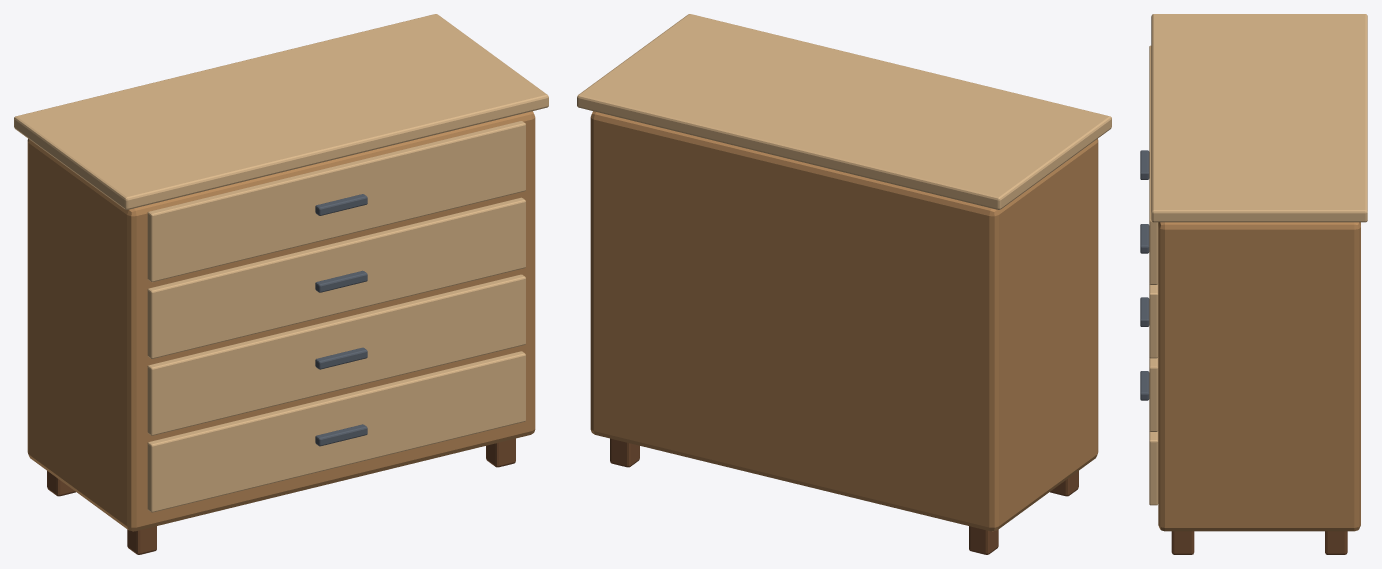
File: dresser.glb
3 renders of one model, left to right at view 1: azimuth 30°, elevation 25°; view 2: azimuth 150°, elevation 25°; view 3: azimuth 270°, elevation 25°, orthographic. The views are drawn at different scales.
Parts seen in each view (by area): view 1: Dresser_Body, Dresser_Top, Dresser_Drawer.002, Dresser_Drawer, Dresser_Drawer.001, Dresser_Drawer.003, Dresser_Foot, Dresser_Foot.002; view 2: Dresser_Body, Dresser_Top, Dresser_Foot.001, Dresser_Foot.003; view 3: Dresser_Body, Dresser_Top, Dresser_Drawer.003, Dresser_Drawer, Dresser_Drawer.002, Dresser_Drawer.001, Dresser_Foot.002, Dresser_Foot.003, Dresser_Handle, Dresser_Handle.001, Dresser_Handle.002, Dresser_Handle.003.
Part boxes in pixels (x1,y1,x2,y2): Dresser_Body: (27,111,535,531); Dresser_Top: (14,14,548,209); Dresser_Drawer.002: (147,197,525,358); Dresser_Drawer: (147,351,525,512); Dresser_Drawer.001: (147,274,525,435); Dresser_Drawer.003: (147,121,525,282); Dresser_Foot: (127,526,156,554); Dresser_Foot.002: (486,438,515,467); Dresser_Body: (590,111,1098,531); Dresser_Top: (577,14,1111,209); Dresser_Foot.001: (969,526,998,554); Dresser_Foot.003: (610,438,639,467); Dresser_Body: (1158,222,1360,531); Dresser_Top: (1151,14,1367,222); Dresser_Drawer.003: (1149,45,1158,284); Dresser_Drawer: (1149,431,1158,505); Dresser_Drawer.002: (1149,283,1158,358); Dresser_Drawer.001: (1149,357,1158,431); Dresser_Foot.002: (1171,531,1194,554); Dresser_Foot.003: (1325,531,1347,554); Dresser_Handle: (1140,371,1149,400); Dresser_Handle.001: (1140,297,1149,326); Dresser_Handle.002: (1140,224,1149,253); Dresser_Handle.003: (1140,150,1149,179).
Size of the model in its own units: 1.04 by 0.87 by 0.505.
